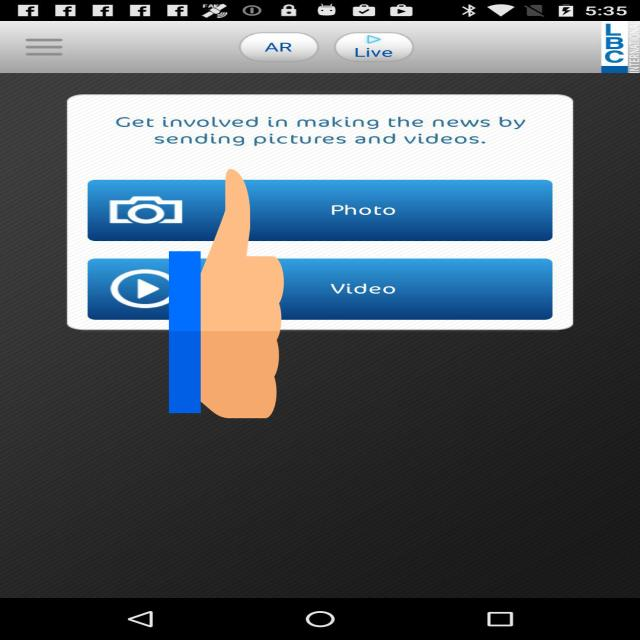privacy zuckering: (169, 163, 284, 424)
